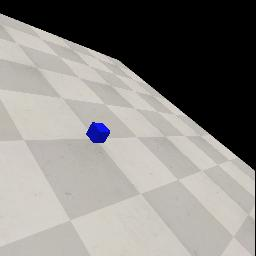box: (86, 122, 110, 143)
